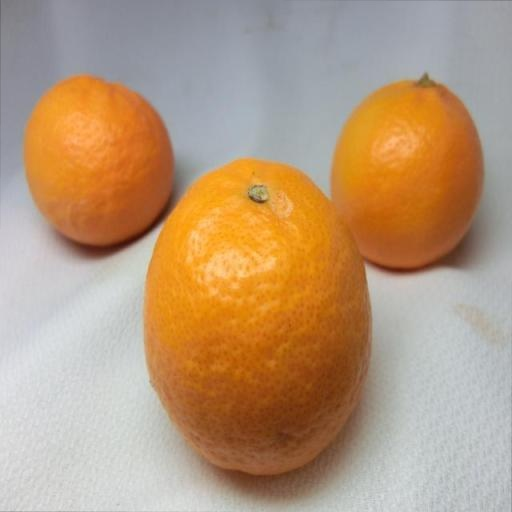fruit: (2, 86, 344, 284), (290, 168, 446, 512), (459, 88, 501, 315)
